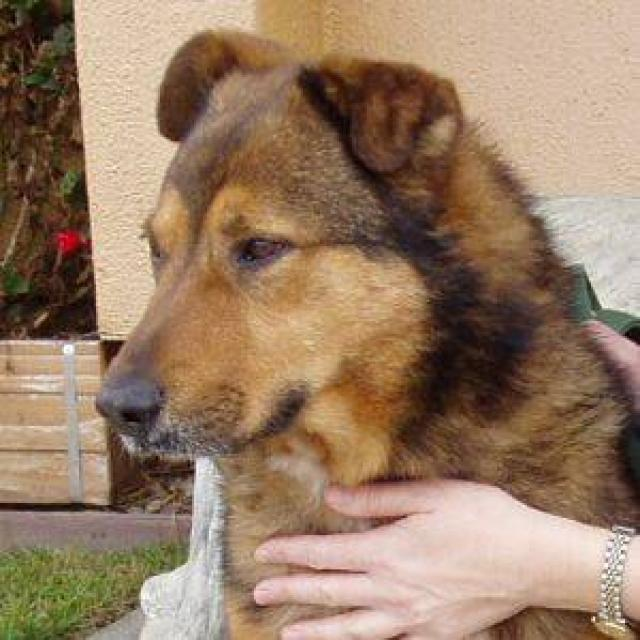dogs: (92, 18, 640, 640)
